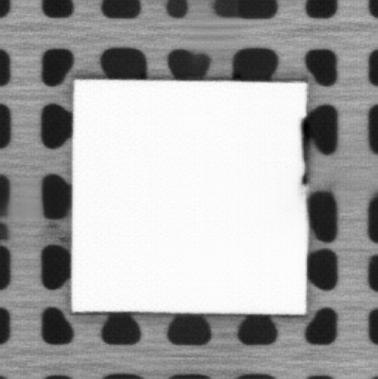DIE_BROKEN: (297, 114, 310, 186)
